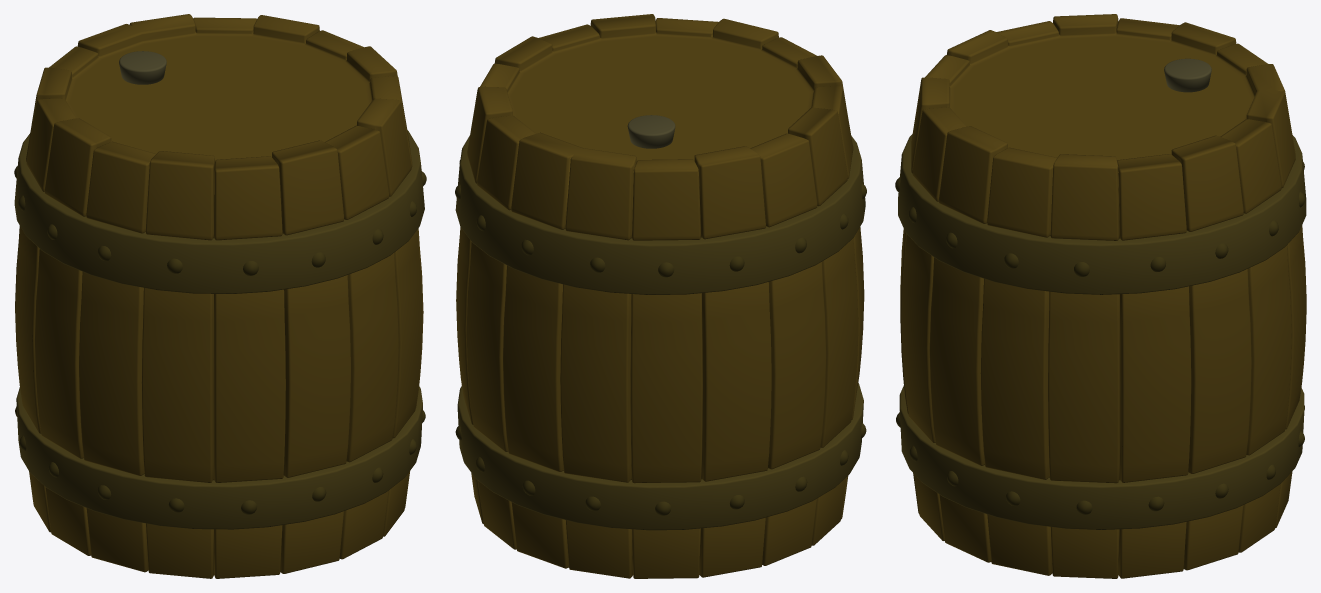
File: booob.glb
3 views of the same model, side by side, from view 1: azimuth 30°, elevation 25°; view 2: azimuth 150°, elevation 25°; view 3: azimuth 270°, elevation 25° (orthographic).
Parts seen in each view (by area): view 1: bochka_low_poly, BOLTlow)poly, kryshka_lowpoly; view 2: bochka_low_poly, BOLTlow)poly, kryshka_lowpoly; view 3: bochka_low_poly, BOLTlow)poly, kryshka_lowpoly.
Part boxes in pixels (<box>): bochka_low_poly: <box>14,14,424,578</box>; BOLTlow)poly: <box>14,166,426,514</box>; kryshka_lowpoly: <box>119,51,166,84</box>; bochka_low_poly: <box>455,14,865,578</box>; BOLTlow)poly: <box>455,160,866,515</box>; kryshka_lowpoly: <box>627,115,675,148</box>; bochka_low_poly: <box>898,14,1306,578</box>; BOLTlow)poly: <box>895,162,1305,514</box>; kryshka_lowpoly: <box>1164,58,1211,92</box>.
Size of the model in its own units: 2.19 by 2.44 by 2.19.
